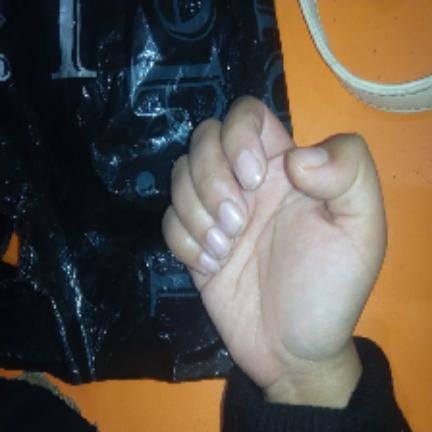Nail: (237, 150, 263, 189), (219, 201, 244, 235), (289, 147, 329, 168), (207, 227, 230, 258), (199, 252, 219, 273)
